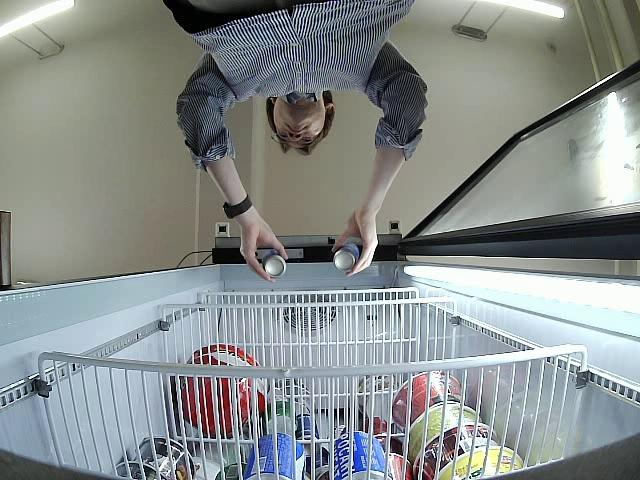00_hand: (330, 212, 380, 278), (239, 224, 288, 279)
15_letsbe: (329, 238, 362, 273)
